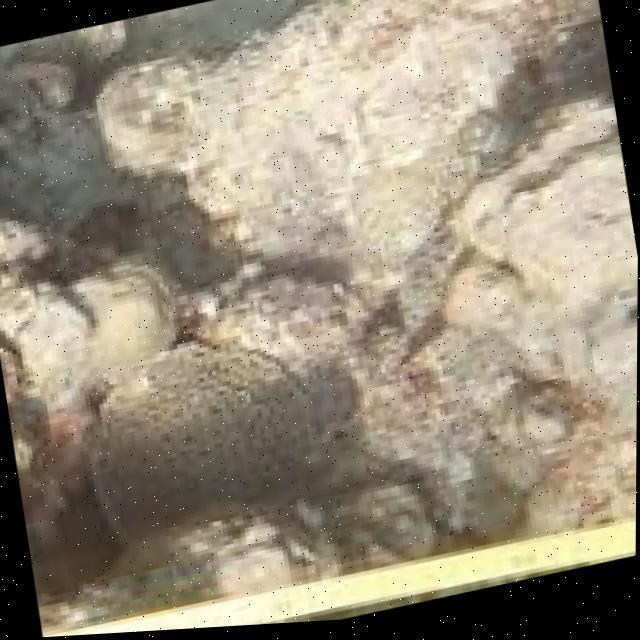Bleached Coral: (68, 329, 383, 552)
